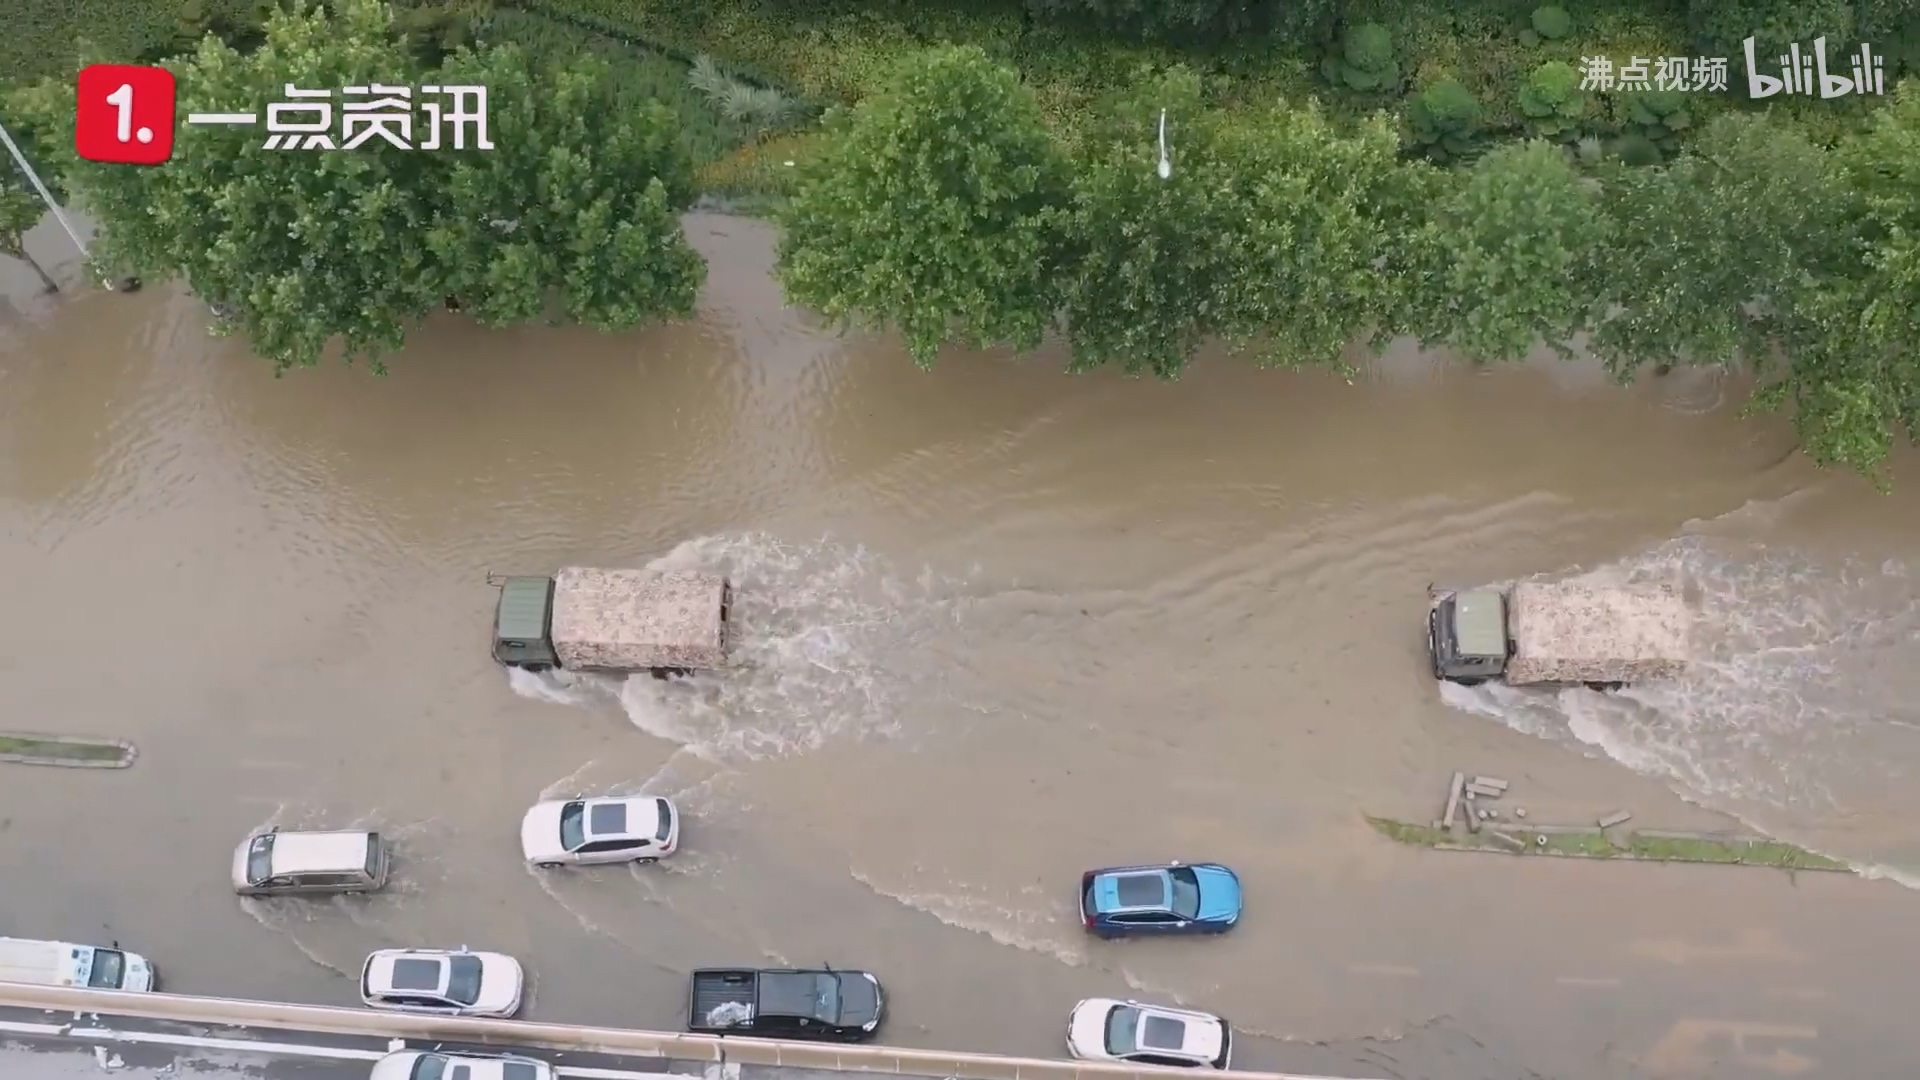puddle: (26, 284, 1920, 1080)
